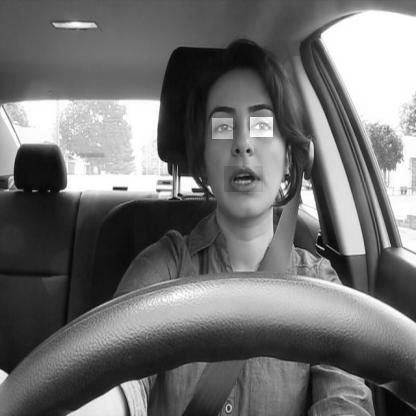seatbelt: (163, 31, 311, 416)
